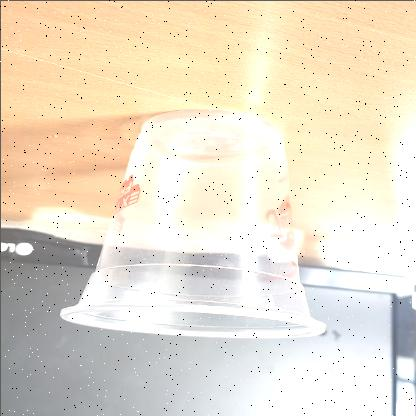Others: (58, 108, 326, 340)
